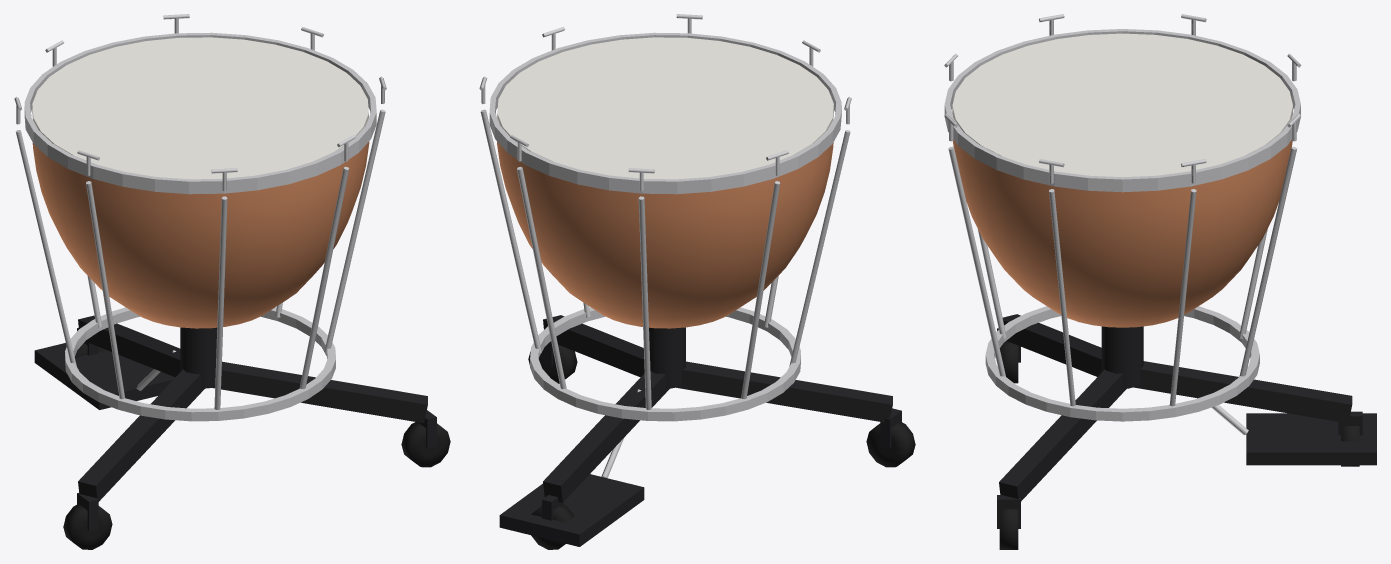
File: timpani-29.glb
3 views of the same model, side by side, from view 1: azimuth 30°, elevation 25°; view 2: azimuth 150°, elevation 25°; view 3: azimuth 270°, elevation 25° (orthographic).
Visible parts, largest first — view 1: head, copper, metal, frame, rubber; view 2: head, copper, metal, frame, rubber; view 3: head, copper, metal, frame, rubber.
Boxes of the visible parts, left/top/right/bottom form: head: left=32, top=37, right=368, bottom=179; copper: left=31, top=115, right=369, bottom=328; metal: left=14, top=14, right=386, bottom=421; frame: left=34, top=315, right=436, bottom=531; rubber: left=63, top=343, right=450, bottom=549; head: left=497, top=37, right=833, bottom=179; copper: left=497, top=114, right=835, bottom=328; metal: left=479, top=14, right=851, bottom=478; frame: left=499, top=315, right=901, bottom=546; rubber: left=528, top=344, right=915, bottom=549; head: left=952, top=33, right=1292, bottom=177; copper: left=953, top=140, right=1292, bottom=327; metal: left=944, top=14, right=1301, bottom=434; frame: left=997, top=314, right=1376, bottom=528; rubber: left=999, top=342, right=1359, bottom=549.
Size of the model in its own units: 0.9458 by 0.89 by 0.9285.
